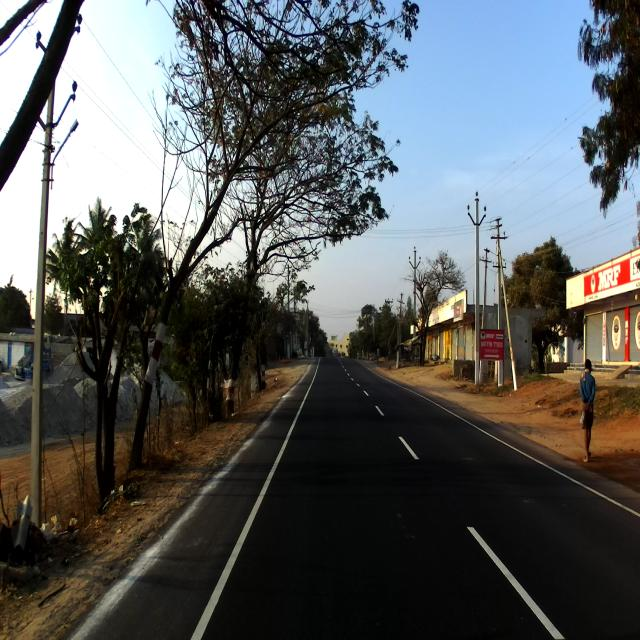tree ahead at: (66, 203, 150, 497)
